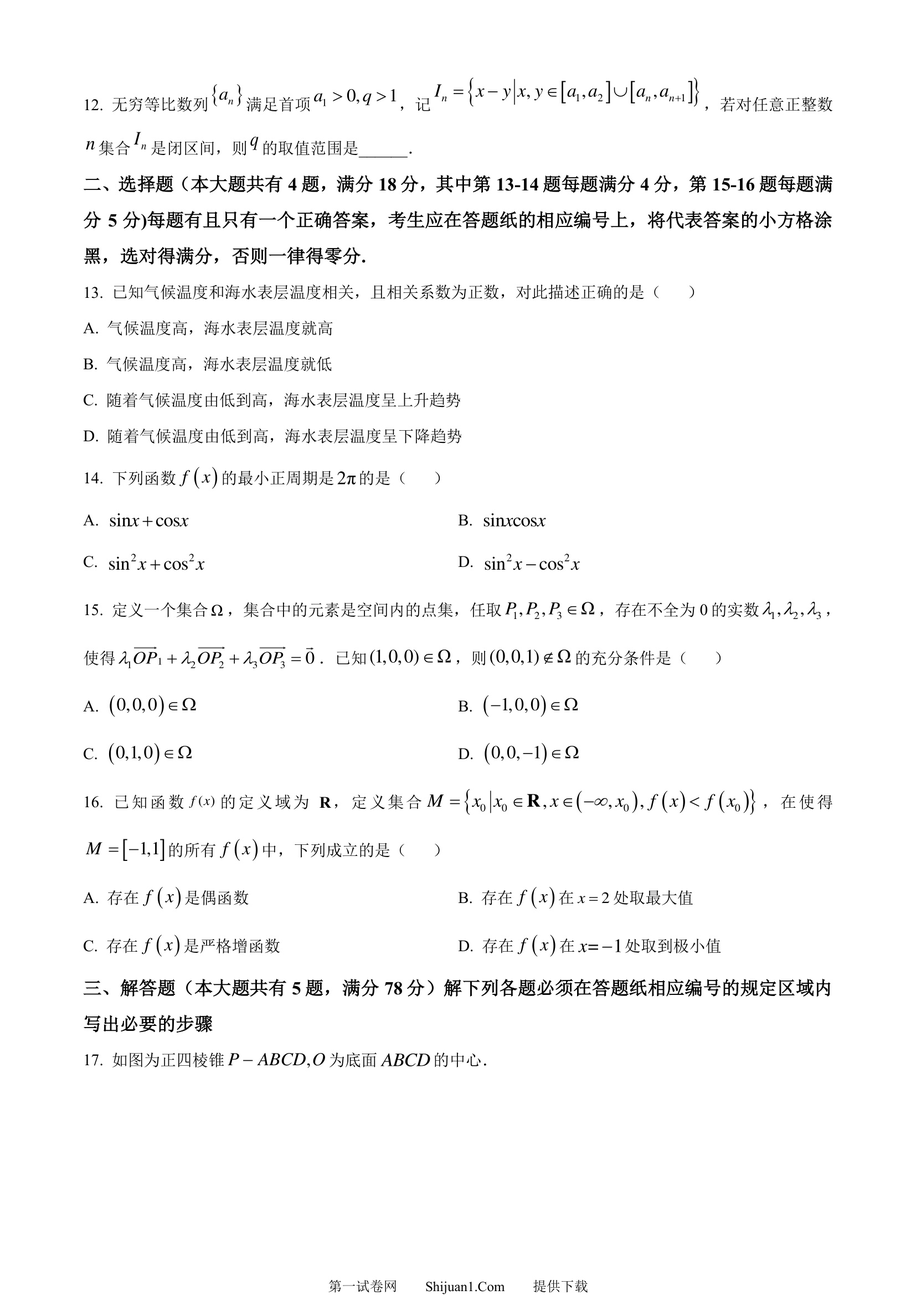question: (78, 581, 848, 776), (75, 781, 858, 964), (70, 278, 718, 461), (68, 81, 865, 165), (75, 459, 619, 581), (73, 1039, 511, 1084)
